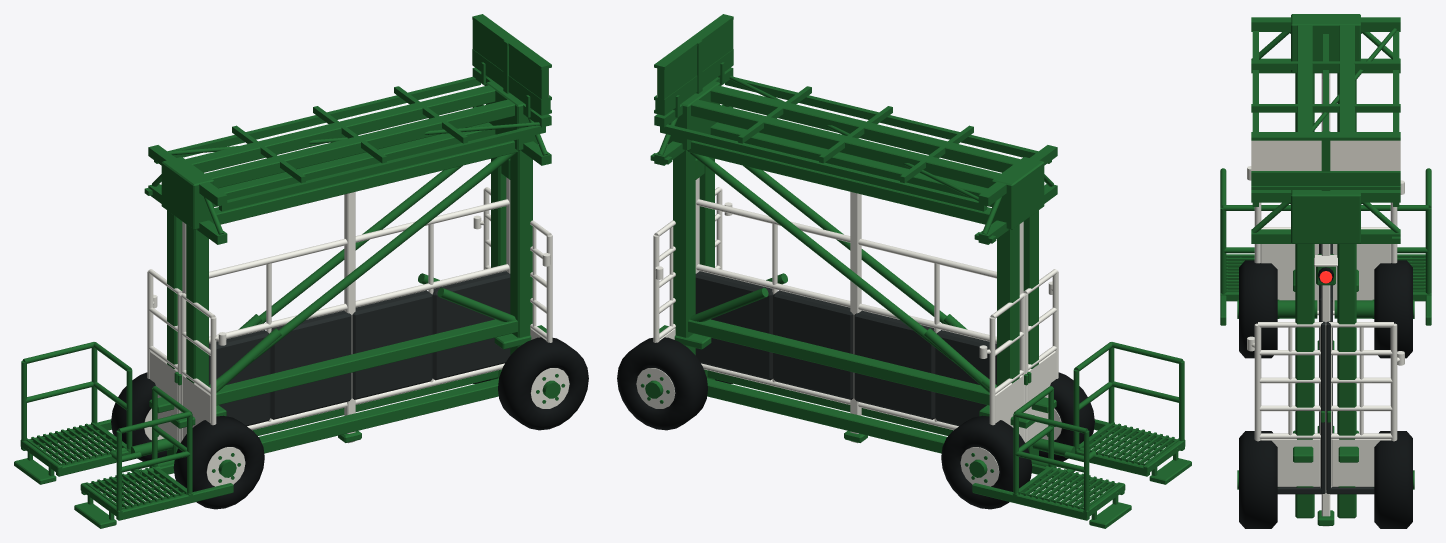
The model's file is starting-gate.glb.
3 views of the same model, side by side, from view 1: azimuth 30°, elevation 25°; view 2: azimuth 150°, elevation 25°; view 3: azimuth 270°, elevation 25° (orthographic). The views are drawn at different scales.
Visible parts, largest first — view 1: EndFrameRight, Partition, EndFrameLeft, TrussBay, SignPanel, RearDoorRight, RearDoorLeft, DoorRight, DoorLeft; view 2: EndFrameLeft, Partition, EndFrameRight, TrussBay, SignPanel, RearDoorLeft, RearDoorRight, DoorLeft; view 3: EndFrameLeft, EndFrameRight, TrussBay, SignPanel, DoorRight, DoorLeft, Partition, RearDoorLeft, RearDoorRight.
Boxes of the visible parts, x1=… form: EndFrameRight: x1=74, y1=40, x2=588, y2=528; Partition: x1=182, y1=158, x2=510, y2=443; EndFrameLeft: x1=14, y1=38, x2=515, y2=484; TrussBay: x1=144, y1=67, x2=551, y2=244; SignPanel: x1=472, y1=14, x2=551, y2=117; RearDoorRight: x1=177, y1=293, x2=226, y2=442; RearDoorLeft: x1=147, y1=269, x2=182, y2=442; DoorRight: x1=530, y1=220, x2=552, y2=342; DoorLeft: x1=473, y1=187, x2=490, y2=269; EndFrameLeft: x1=617, y1=39, x2=1131, y2=528; Partition: x1=695, y1=158, x2=1023, y2=443; EndFrameRight: x1=690, y1=38, x2=1191, y2=484; TrussBay: x1=650, y1=67, x2=1057, y2=244; SignPanel: x1=654, y1=14, x2=733, y2=117; RearDoorLeft: x1=979, y1=293, x2=1028, y2=442; RearDoorRight: x1=1023, y1=269, x2=1058, y2=442; DoorLeft: x1=653, y1=220, x2=675, y2=342; EndFrameLeft: x1=1320, y1=14, x2=1431, y2=528; EndFrameRight: x1=1220, y1=14, x2=1331, y2=528; TrussBay: x1=1251, y1=17, x2=1400, y2=243; SignPanel: x1=1251, y1=132, x2=1400, y2=189; DoorRight: x1=1247, y1=321, x2=1325, y2=494; DoorLeft: x1=1326, y1=321, x2=1404, y2=494; Partition: x1=1314, y1=73, x2=1337, y2=526; RearDoorLeft: x1=1333, y1=180, x2=1404, y2=315; RearDoorRight: x1=1247, y1=166, x2=1318, y2=315.
Size of the model in its own units: 7.02 by 4.9 by 2.41.
